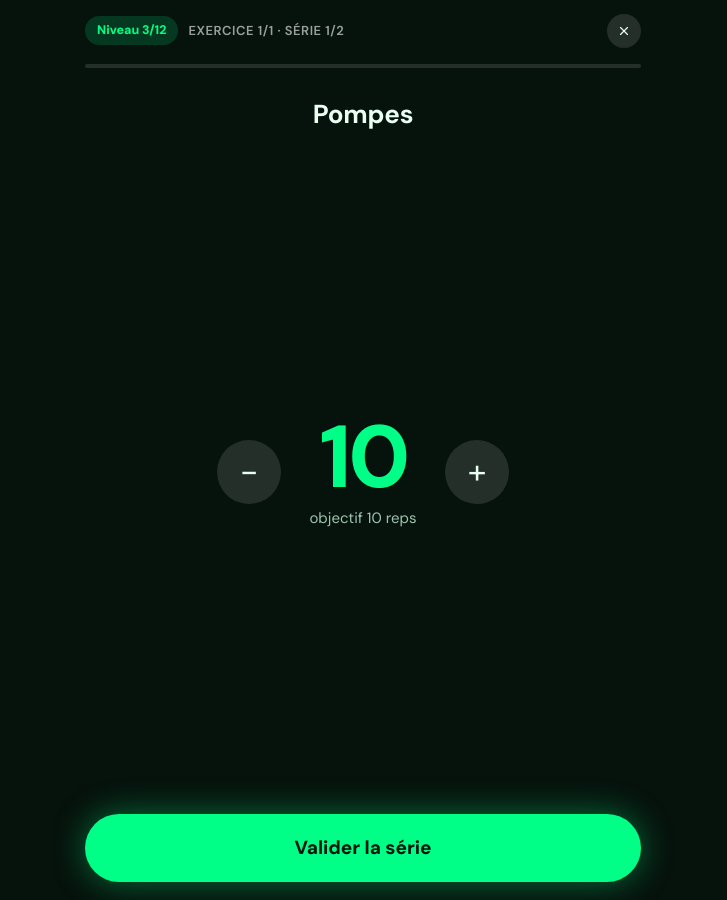
Test case: parcours d une seance sans chrono › valide le niveau quand toutes les series sont reussies
This screenshot has width=727, height=900.
Click the button "Valider la série" at (363, 848), box [85,814,641,882]
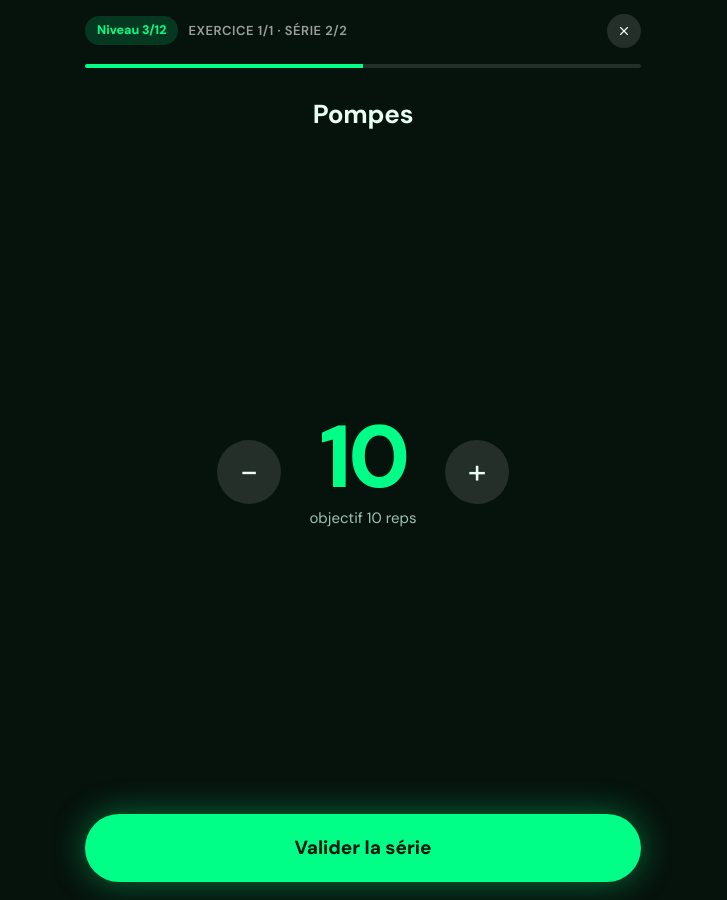
Click the button "Valider la série" at (363, 848), box [85,814,641,882]
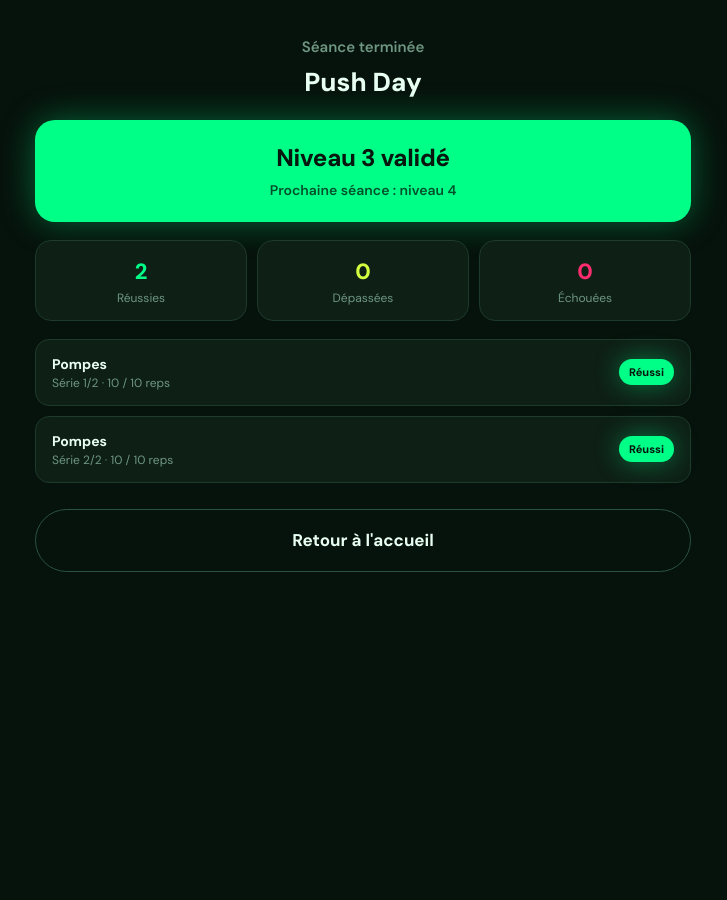
Now the text "Niveau 3 validé" is shown, box [276,142,450,172]
Now the text "Prochaine séance : niveau 4" is shown, box [270,180,456,198]
